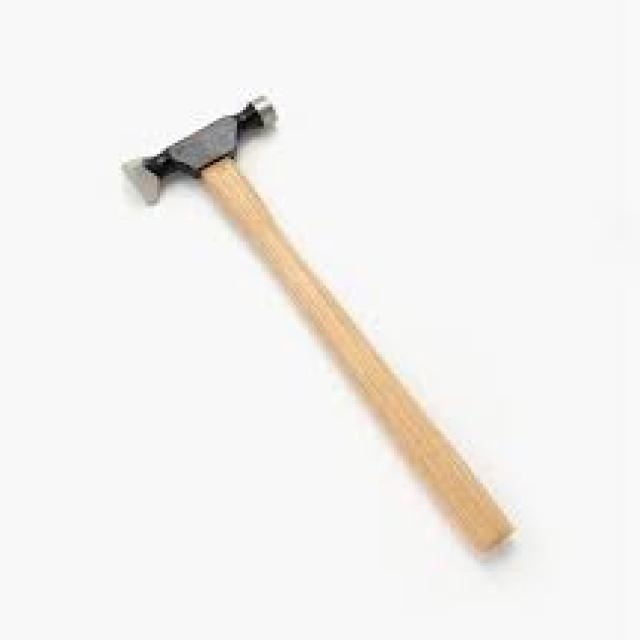hammer: (66, 64, 575, 522)
